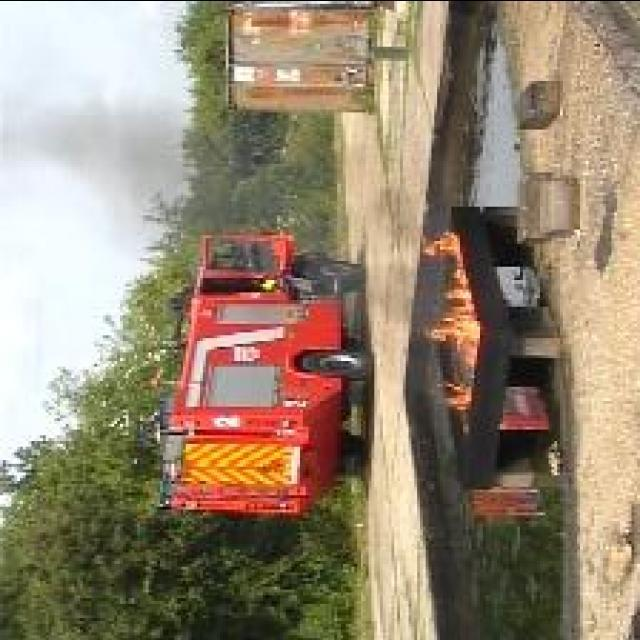Fire: (423, 230, 483, 367), (438, 378, 472, 411)
